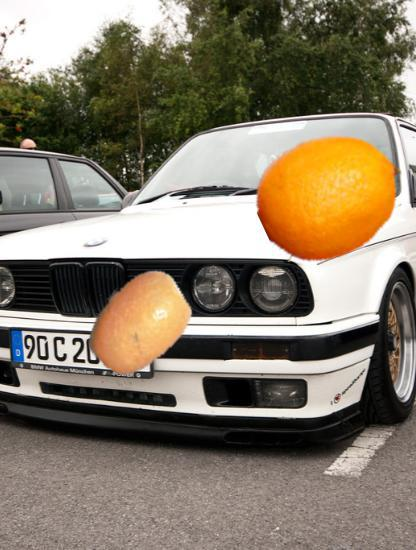Kumquats: (83, 266, 198, 381)
Lemon: (256, 121, 406, 271)
